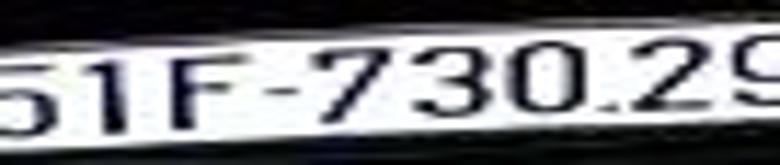-: (259, 83, 303, 100)
.: (597, 99, 623, 118)
0: (505, 38, 586, 116)
1: (84, 58, 130, 137)
2: (631, 34, 716, 115)
3: (411, 44, 494, 119)
5: (0, 57, 61, 140)
7: (309, 47, 397, 125)
9: (734, 36, 780, 111)
F: (165, 55, 249, 134)
